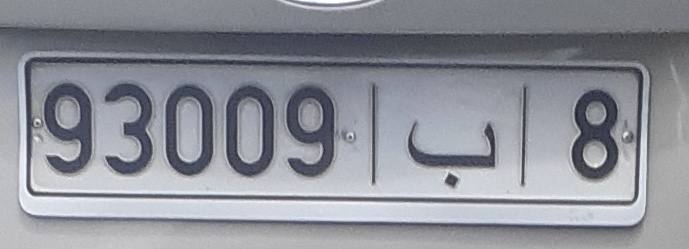0: (220, 75, 279, 183), (162, 77, 220, 181)
3: (99, 74, 159, 182)
8: (564, 82, 624, 190)
9: (281, 81, 346, 181), (39, 76, 96, 184)
b: (402, 95, 504, 191)
